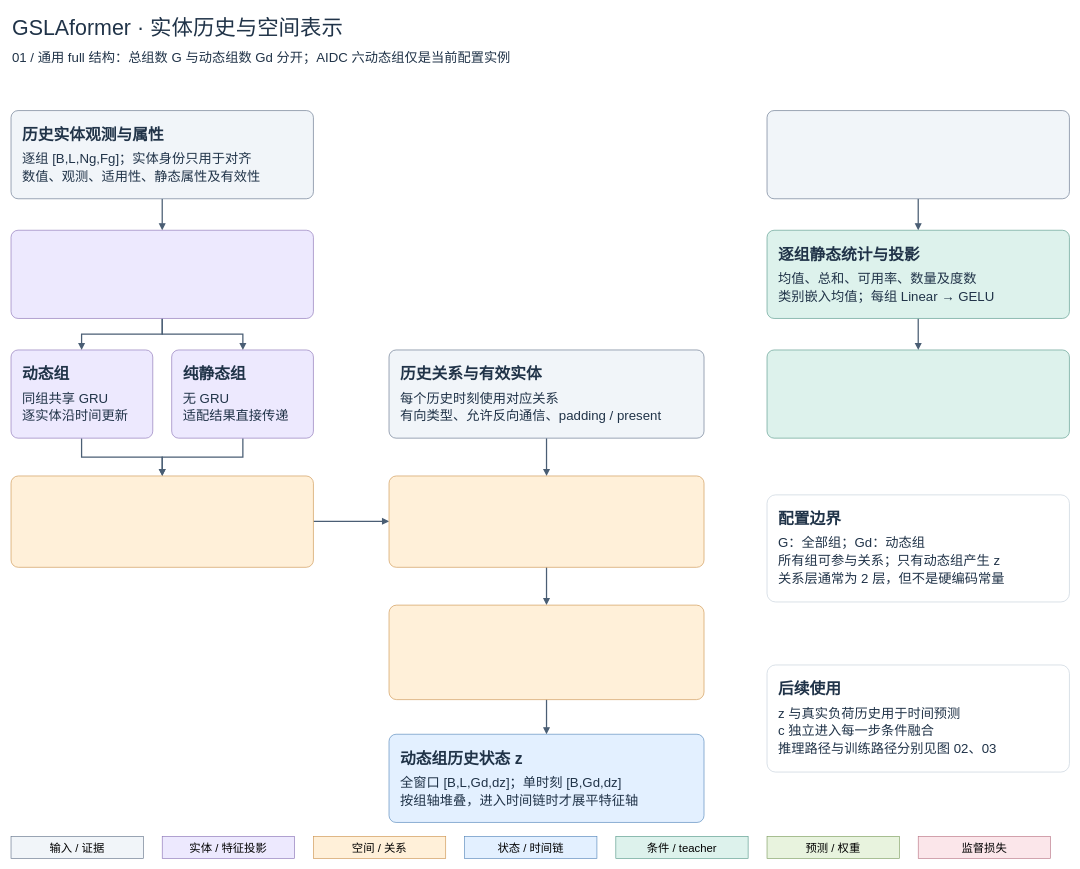
This 1080x869 diagram has some shape labels left out. The shapes that lost their labels are listed below. From the top down, each one's box as (x1, y1, x2, y2) in pixels, then its label:
(766, 110, 1069, 199): 预测起点的静态证据 有效实体的属性、类别与数量 起点关系的逐类型出入度；不读动态值
(10, 230, 313, 318): 逐组共享实体适配 动态值、掩码与属性拼接 Linear → GELU → Linear；输出宽度 ds
(766, 349, 1069, 438): 固定静态条件 c 拼接全部组统计表示 → 单 Linear [B,dt]；同一起点的整段预测共用
(10, 475, 313, 567): 逐组、逐时刻的实体交互 实体 + summary token → 单层空间注意力 去掉 summary 输出；保留实体 [B,L,Ng,ds]
(388, 475, 704, 567): 跨组类型关系交互 在实体轴拼接全部 G 组；按帧独立计算 加性通信掩码与方向偏置；层数来自配置
(388, 604, 704, 700): 仅对动态组进行独立查询读出 Q：可学习查询；K/V：实体 + 常驻空组 token 池化结果拼接 log1p(N)、coverage → Linear → LN
